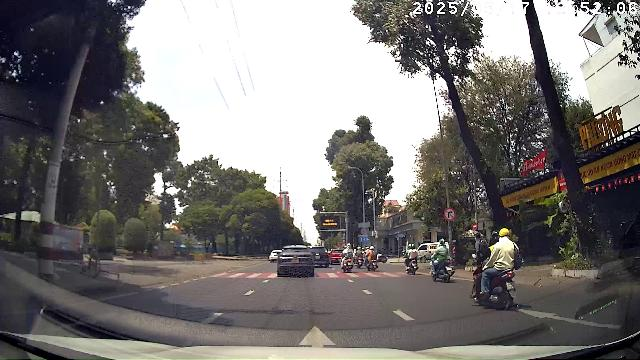123b-cam-re-phai: (444, 207, 456, 221)
